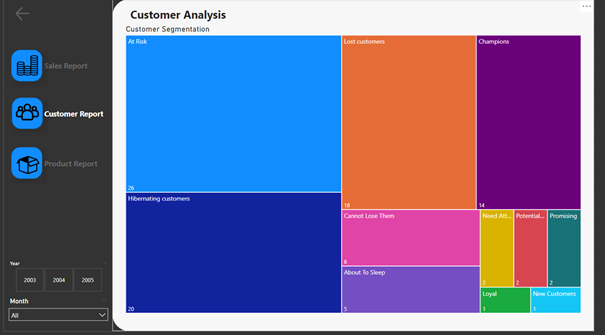

What the dashboard file says about the page in this screenshot:
{"tool":"powerbi","page":{"name":"Customer ","canvas":[1280,720],"ordinal":1},"visuals":[{"type":"shape","box":[16.2,321.2,67.5,68.8],"z":0},{"type":"shape","box":[16.4,213.6,67.3,68.2],"z":1000},{"type":"shape","box":[245,0,1035,720],"z":2000},{"type":"shape","box":[502.5,10,777.5,331.2],"z":3000},{"type":"shape","box":[236.2,337.5,526.2,382.5],"z":4000},{"type":"shape","box":[752.5,337.5,527.5,382.5],"z":5000},{"type":"actionButton","box":[83.8,108.8,160,70],"z":6000},{"type":"actionButton","box":[83.8,211.2,180,72.5],"z":7000},{"type":"actionButton","box":[83.8,321.2,160,70],"z":8000},{"type":"shape","box":[245,53.8,256.2,150],"z":9000},{"type":"textbox","box":[268.8,12.5,1011.2,61.2],"z":10000},{"type":"card","title":"Total Customer","fields":{"Values":["Measure.Total Customer"]},"box":[273.8,78.8,198.8,100],"z":11000},{"type":"barChart","title":"Top 10 Customers","fields":{"Category":["Customer.CUSTOMER NAME"],"Y":["Sum(Order_details.TOTAL SALES)"]},"box":[519.8,21.7,724.8,300.3],"z":12000},{"type":"clusteredColumnChart","title":"Customer By Date","fields":{"Category":["Date.DATE.Variation.Date Hierarchy.Year","Date.DATE.Variation.Date Hierarchy.Month"],"Y":["Measure.Total Customer"]},"box":[253.3,360.6,490.9,341.3],"z":13000},{"type":"shape","box":[566.2,0,16.2,53.8],"z":14000},{"type":"shape","box":[246.2,191.2,256.2,150],"z":15000},{"type":"card","title":"Average Sales per Customer","fields":{"Values":["Measure.Average Sales per Customer"]},"box":[263.8,211.2,220,110],"z":16000},{"type":"slicer","fields":{"Values":["Date.DATE.Variation.Date Hierarchy.Year"]},"box":[0,562.5,236.2,78.8],"z":17000},{"type":"slicer","fields":{"Values":["Date.DATE.Variation.Date Hierarchy.Month"]},"box":[0,641.4,235.7,78.6],"z":18000},{"type":"image","box":[18.8,213.8,62.5,62.5],"z":20000},{"type":"image","box":[20,325,62.5,60],"z":21000},{"type":"shape","box":[16.2,110,67.5,68.8],"z":22000},{"type":"image","box":[18.8,116.2,63.8,55],"z":23000},{"type":"clusteredBarChart","title":"Average Revenue per Order","fields":{"Category":["Customer.CUSTOMER NAME"],"Y":["Customer.AVERAGE REVENUE per Order"]},"box":[774.3,360.6,482.4,332.9],"z":24000},{"type":"actionButton","box":[20.5,21.7,100.1,39.8],"z":24001}]}

Visuals, with their boxes on the page's 1280x720 design canvas (x1, y1, x2, y2). These are canvas units, not pixel positions in the 605x335 screenshot, which may show the page scaled, cropped or inside an application window:
shape: bbox(16, 321, 84, 390)
shape: bbox(16, 214, 84, 282)
shape: bbox(245, 0, 1280, 720)
shape: bbox(502, 10, 1280, 341)
shape: bbox(236, 338, 762, 720)
shape: bbox(752, 338, 1280, 720)
actionButton: bbox(84, 109, 244, 179)
actionButton: bbox(84, 211, 264, 284)
actionButton: bbox(84, 321, 244, 391)
shape: bbox(245, 54, 501, 204)
textbox: bbox(269, 12, 1280, 74)
"Total Customer" card: bbox(274, 79, 473, 179)
"Top 10 Customers" barChart: bbox(520, 22, 1245, 322)
"Customer By Date" clusteredColumnChart: bbox(253, 361, 744, 702)
shape: bbox(566, 0, 582, 54)
shape: bbox(246, 191, 502, 341)
"Average Sales per Customer" card: bbox(264, 211, 484, 321)
slicer - Date.DATE.Variation.Date Hierarchy.Year: bbox(0, 562, 236, 641)
slicer - Date.DATE.Variation.Date Hierarchy.Month: bbox(0, 641, 236, 720)
image: bbox(19, 214, 81, 276)
image: bbox(20, 325, 82, 385)
shape: bbox(16, 110, 84, 179)
image: bbox(19, 116, 83, 171)
"Average Revenue per Order" clusteredBarChart: bbox(774, 361, 1257, 694)
actionButton: bbox(20, 22, 121, 62)
